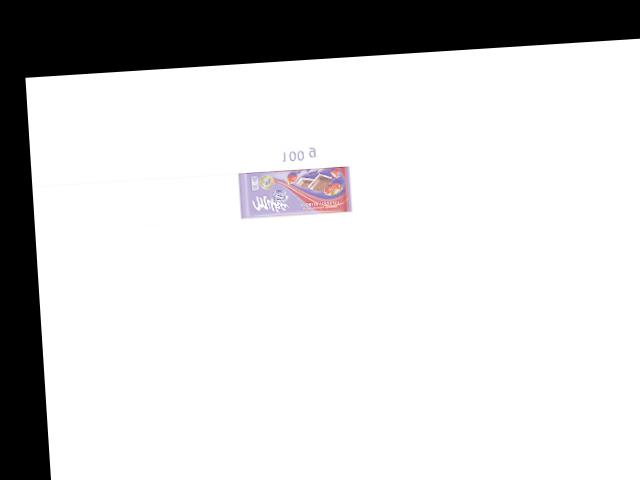chocolate: (238, 160, 353, 219)
